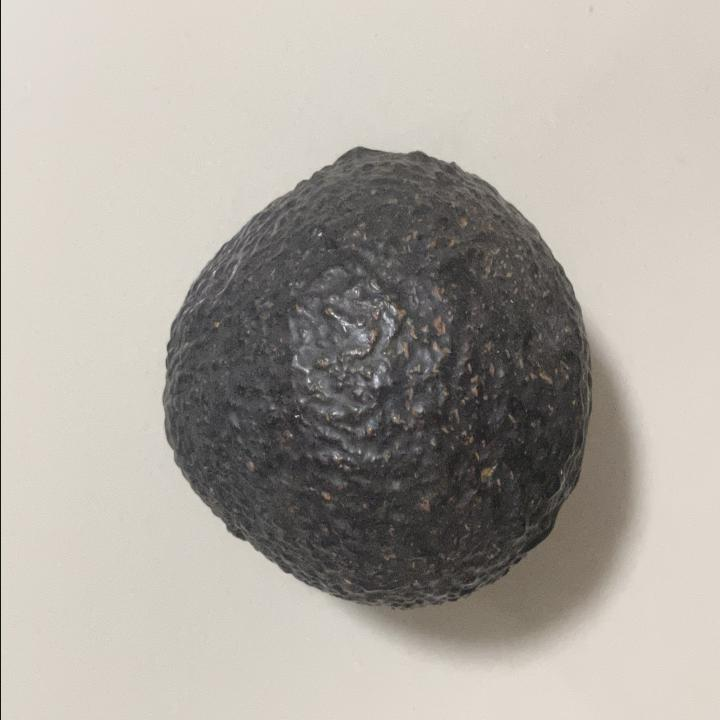Level2: (152, 138, 600, 618)
